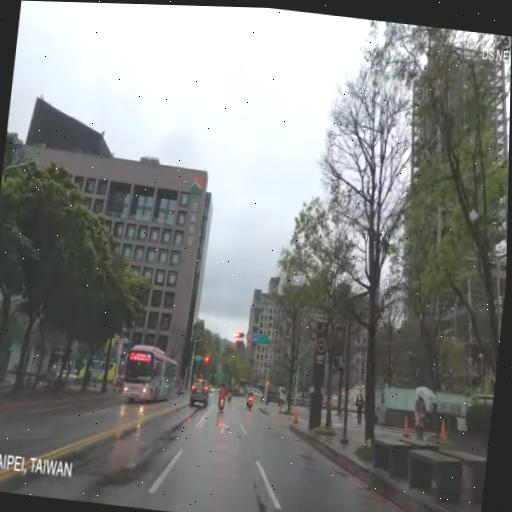Car: (121, 341, 180, 407), (75, 354, 124, 387), (189, 377, 211, 410), (261, 384, 288, 407), (244, 383, 264, 402), (206, 383, 214, 395), (209, 386, 216, 394)
